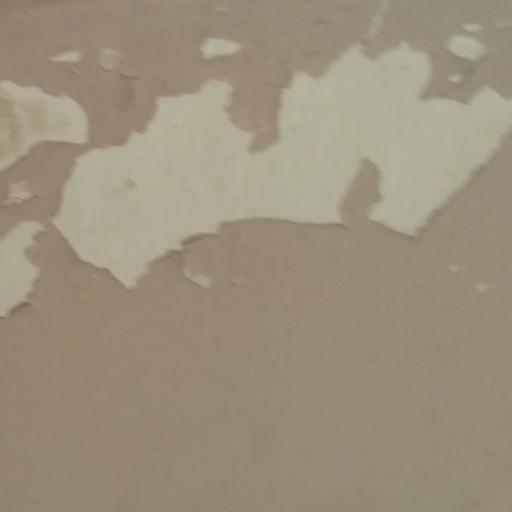peeling: (0, 10, 512, 334)
